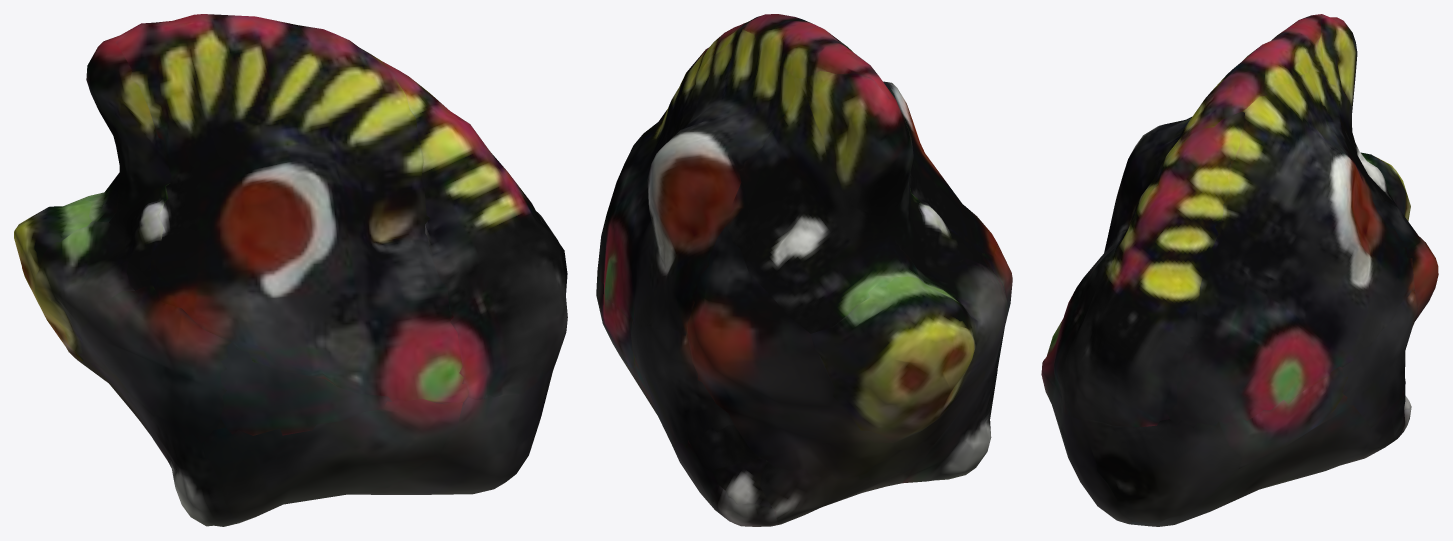
The model's file is hall.glb.
The picture shows the model from 3 angles, left to right: view 1: azimuth 30°, elevation 25°; view 2: azimuth 150°, elevation 25°; view 3: azimuth 270°, elevation 25°; orthographic projection. The views are drawn at different scales.
Size of the model in its own units: 0.2113 by 0.2158 by 0.1885.
1 material, 1 textured.
